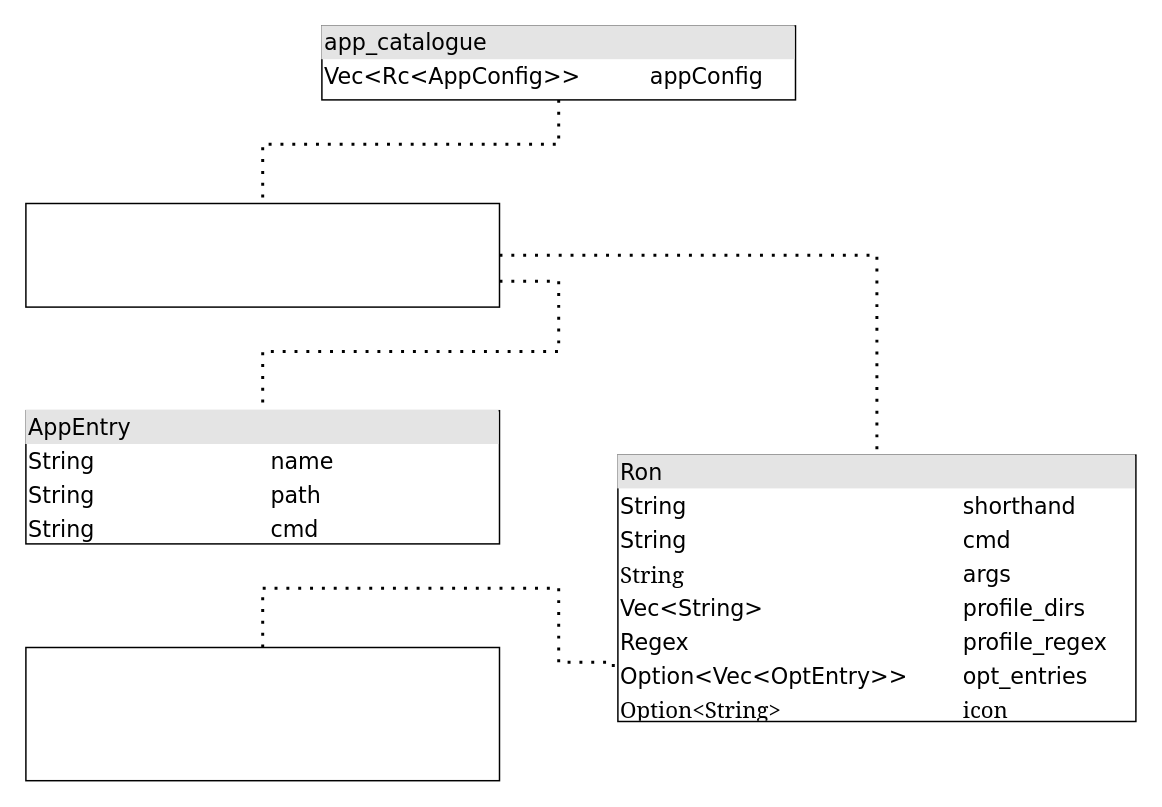
The diagram is 1162 pixels wide and 807 high, and some of its shapes have lost their labels. The centre of each missing label's shape, as x and y in pixels:
"AppConfig Rc<Ron> conf Vec<Rc<AppEntry>> entries" belongs at [262,254].
"OptEntry String name Option<String> cmd Option<String> args" belongs at [262,713].
